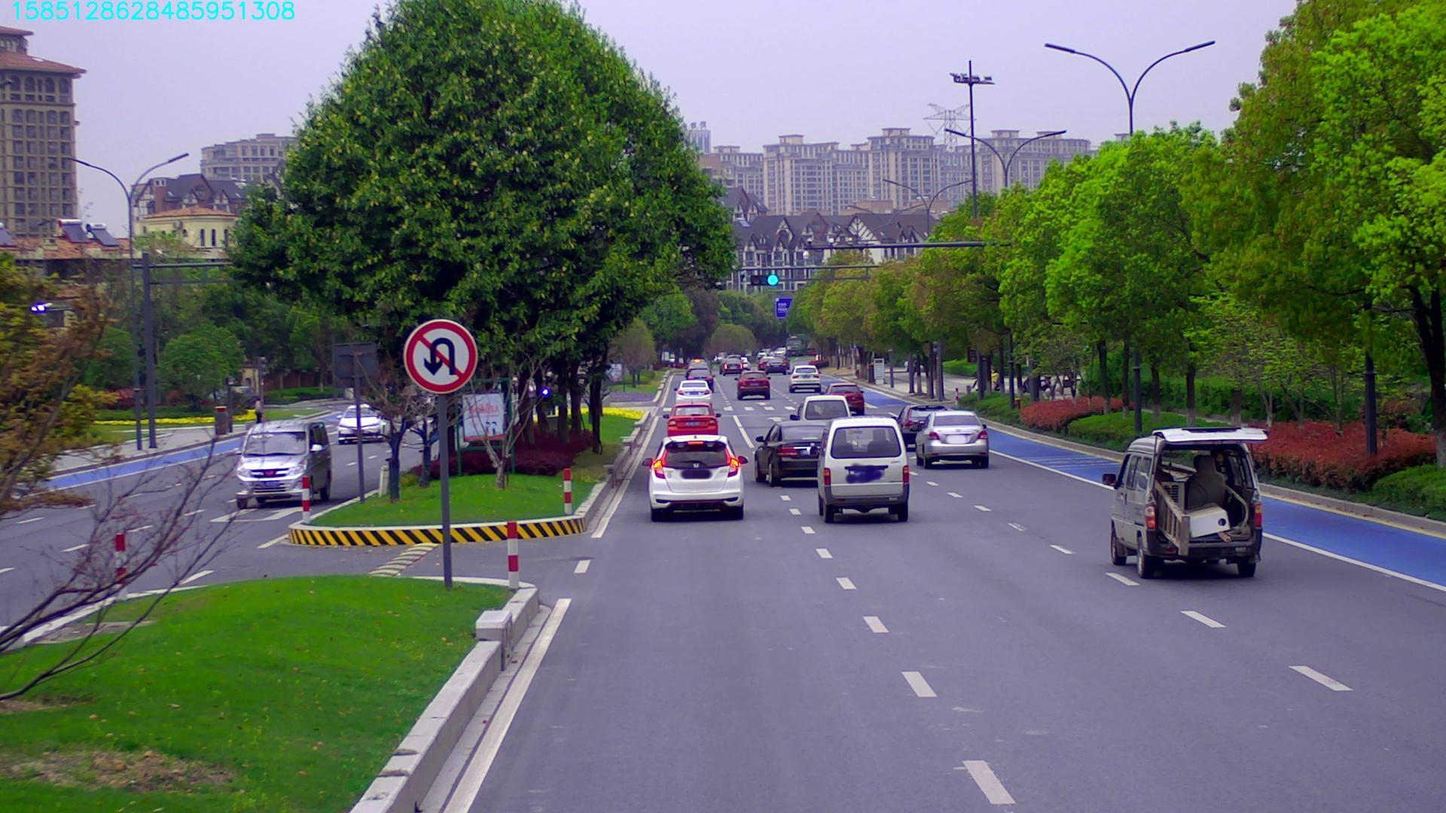green: (749, 273, 782, 286)
